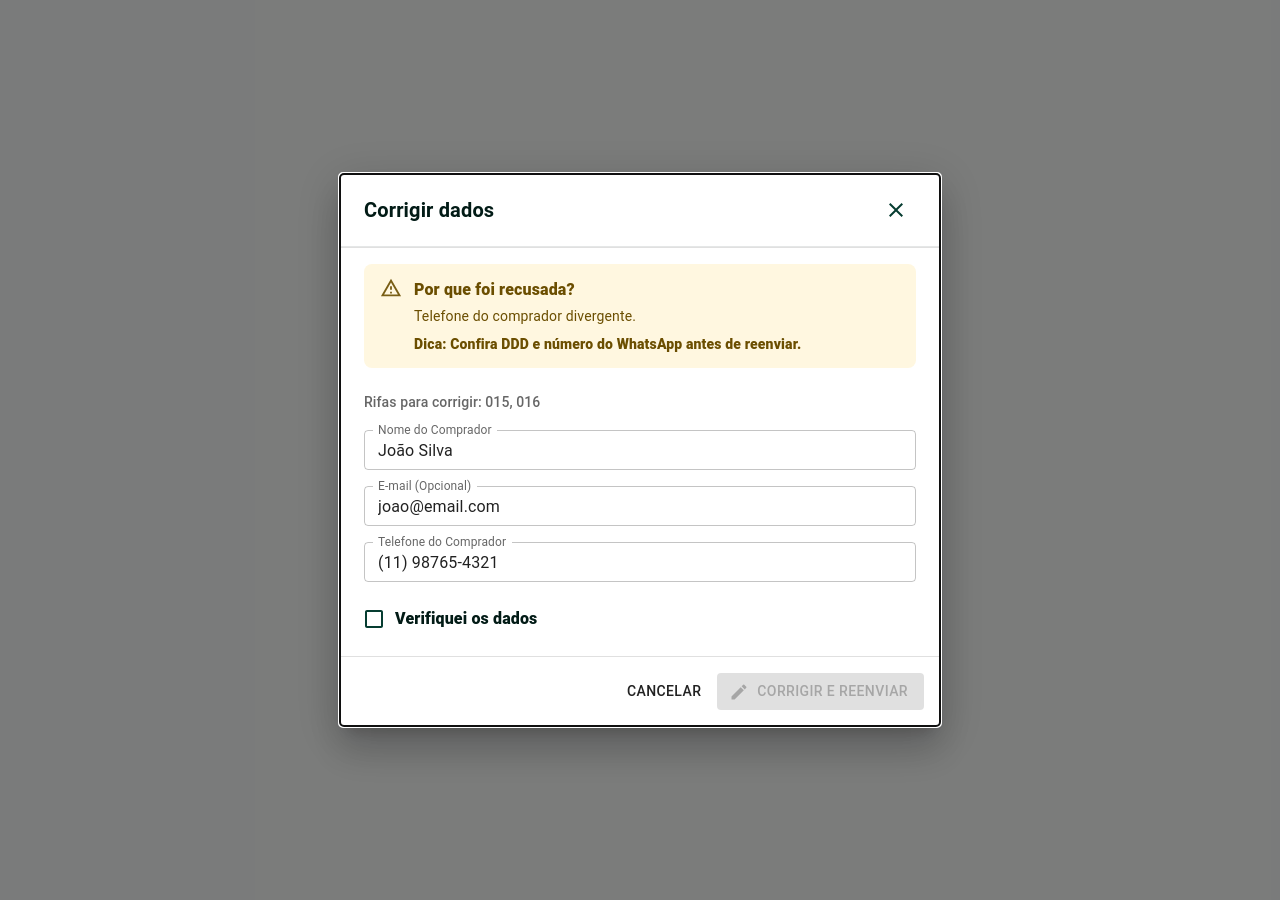
Test: Componente: ModalCorrecaoRecusa › Deve exibir erro quando a correção estiver indisponível
Click the checkbox labelled "Verifiquei os dados" at (450, 619), box [362,607,538,631]
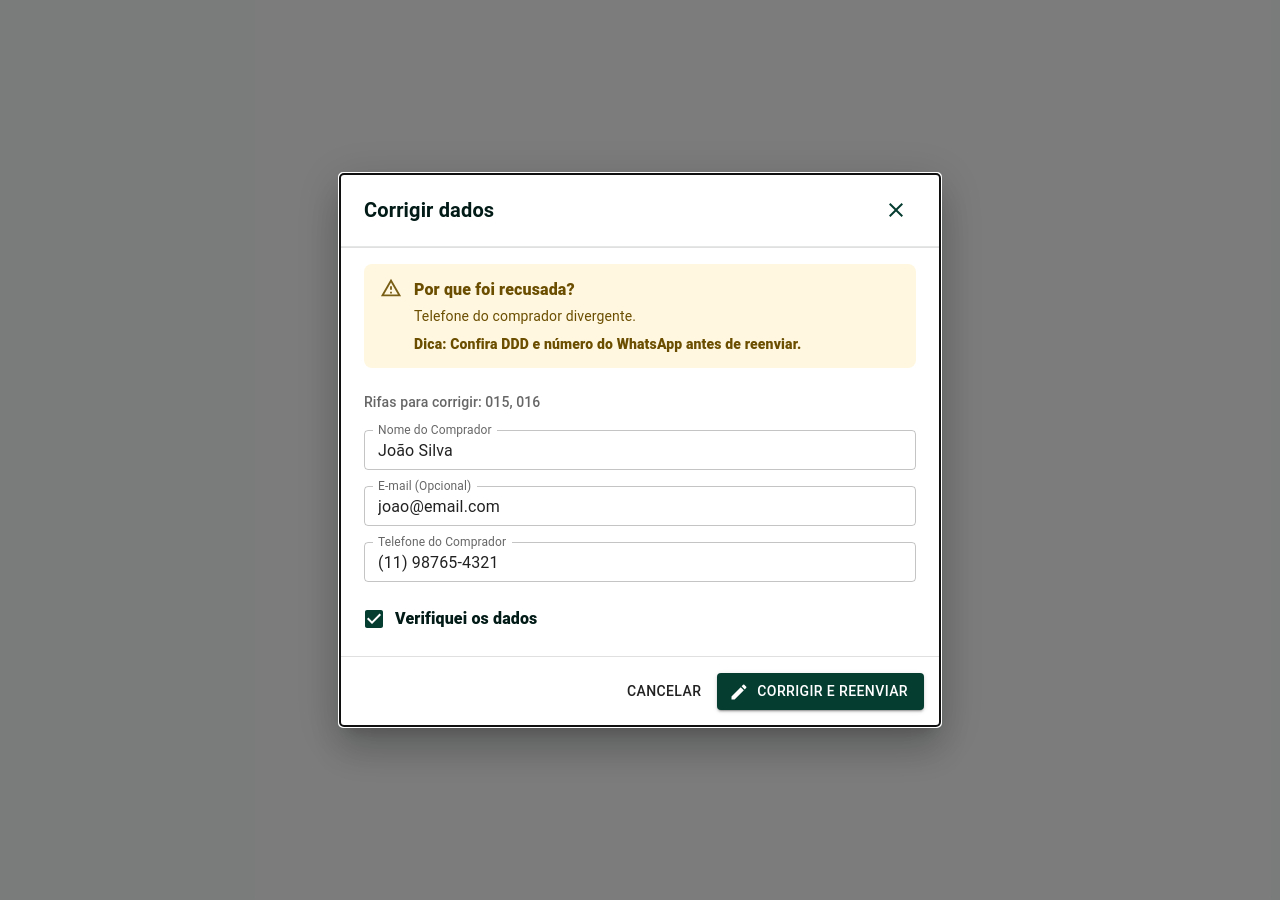
Click the button "Corrigir e Reenviar" at (821, 692), box [717,673,924,710]
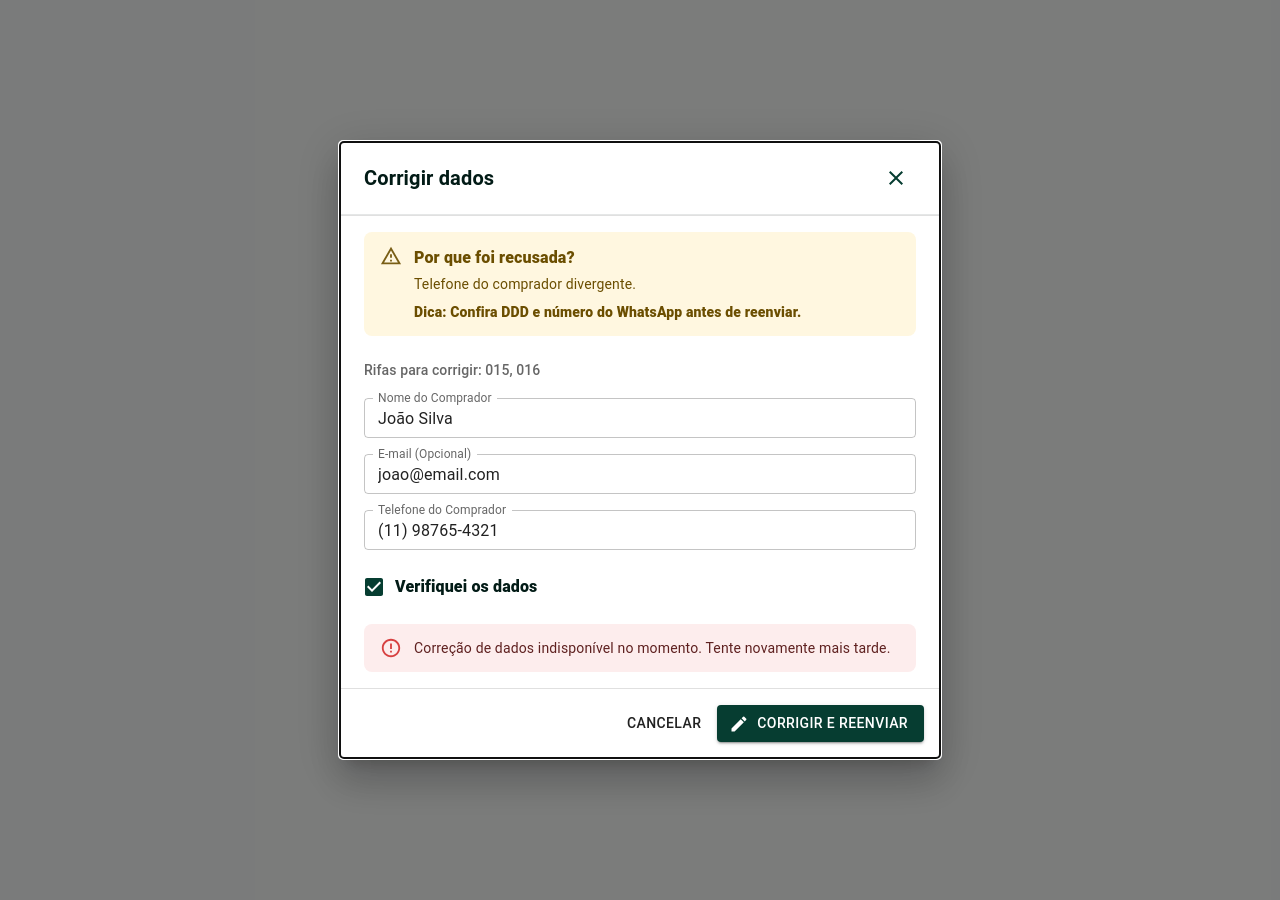
Check: the text "Correção de dados indisponível" is shown, box [414,640,890,656]
